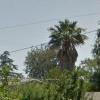Palm tree: (47, 13, 91, 77)
